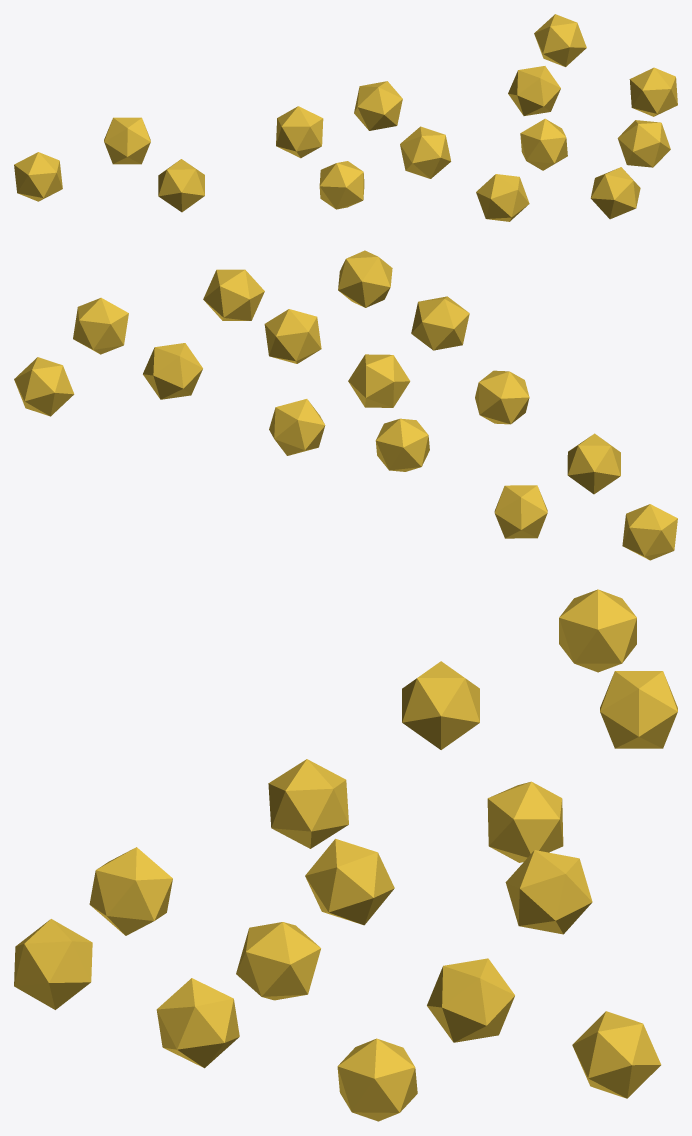
Rendered from Eaten cheese (with 7 bites).fbx.
The picture shows the model from 3 angles, top to bottom: view 1: azimuth 30°, elevation 25°; view 2: azimuth 150°, elevation 25°; view 3: azimuth 270°, elevation 25°; orthographic projection. The views are drawn at different scales.
Parts seen in each view (by area): view 1: Cheese crumb.004, Cheese crumb.008, Cheese crumb.003, Cheese crumb.010, Cheese crumb.011, Cheese crumb.006, Cheese crumb.009, Cheese crumb.007, Cheese crumb.001, Cheese crumb, Cheese crumb.005, Cheese crumb.013 (+2 smaller); view 2: Cheese crumb.008, Cheese crumb.004, Cheese crumb.010, Cheese crumb.013, Cheese crumb.011, Cheese crumb.007, Cheese crumb, Cheese crumb.001, Cheese crumb.009, Cheese crumb.003, Cheese crumb.005, Cheese crumb.012 (+2 smaller); view 3: Cheese crumb.005, Cheese crumb.006, Cheese crumb.008, Cheese crumb.012, Cheese crumb.010, Cheese crumb.004, Cheese crumb.007, Cheese crumb.001, Cheese crumb.009, Cheese crumb.013, Cheese crumb, Cheese crumb.011 (+2 smaller).
Boxes of the visible parts, left/top/right/bottom form: Cheese crumb.004: left=400, top=126, right=451, bottom=178; Cheese crumb.008: left=508, top=66, right=560, bottom=115; Cheese crumb.003: left=276, top=106, right=323, bottom=158; Cheese crumb.010: left=617, top=120, right=670, bottom=167; Cheese crumb.011: left=476, top=174, right=529, bottom=221; Cheese crumb.006: left=354, top=81, right=402, bottom=130; Cheese crumb.009: left=629, top=67, right=677, bottom=116; Cheese crumb.007: left=534, top=14, right=586, bottom=66; Cheese crumb.001: left=104, top=117, right=150, bottom=164; Cheese crumb: left=14, top=152, right=62, bottom=201; Cheese crumb.005: left=319, top=161, right=364, bottom=209; Cheese crumb.013: left=520, top=118, right=567, bottom=170; Cheese crumb.008: left=143, top=343, right=202, bottom=399; Cheese crumb.004: left=348, top=354, right=410, bottom=407; Cheese crumb.010: left=203, top=269, right=264, bottom=320; Cheese crumb.013: left=264, top=309, right=321, bottom=363; Cheese crumb.011: left=411, top=296, right=469, bottom=350; Cheese crumb.007: left=14, top=357, right=74, bottom=416; Cheese crumb: left=622, top=504, right=677, bottom=560; Cheese crumb.001: left=494, top=485, right=547, bottom=538; Cheese crumb.009: left=73, top=297, right=128, bottom=354; Cheese crumb.003: left=375, top=418, right=429, bottom=471; Cheese crumb.005: left=475, top=370, right=529, bottom=424; Cheese crumb.012: left=338, top=250, right=392, bottom=307; Cheese crumb.005: left=268, top=759, right=348, bottom=848; Cheese crumb.006: left=505, top=850, right=592, bottom=934; Cheese crumb.008: left=427, top=958, right=514, bottom=1042; Cheese crumb.012: left=14, top=919, right=92, bottom=1009; Cheese crumb.010: left=156, top=978, right=239, bottom=1068; Cheese crumb.004: left=305, top=838, right=394, bottom=925; Cheese crumb.007: left=572, top=1011, right=661, bottom=1098; Cheese crumb.001: left=600, top=671, right=677, bottom=748; Cheese crumb.009: left=337, top=1038, right=417, bottom=1121; Cheese crumb.013: left=236, top=922, right=320, bottom=1000; Cheese crumb: left=559, top=589, right=636, bottom=672; Cheese crumb.011: left=89, top=847, right=172, bottom=935.
Size of the model in its own units: 338 by 28.81 by 197.
10 materials, 10 textured.
